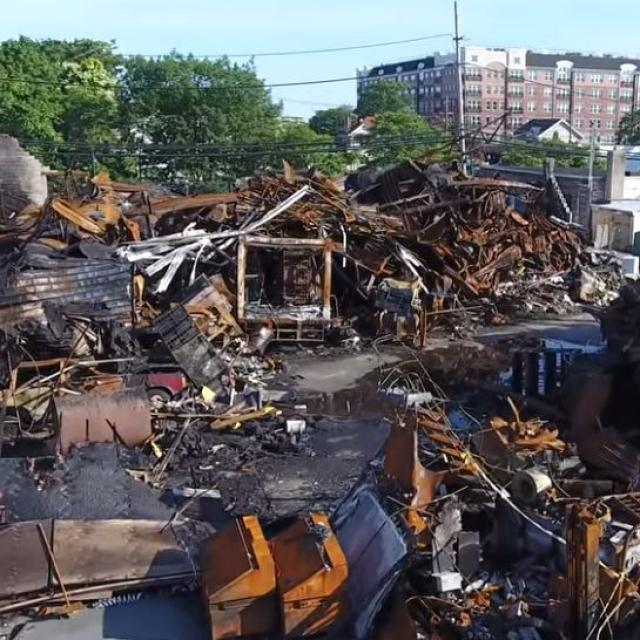collapsed_building: (0, 158, 533, 353), (247, 383, 634, 639)
